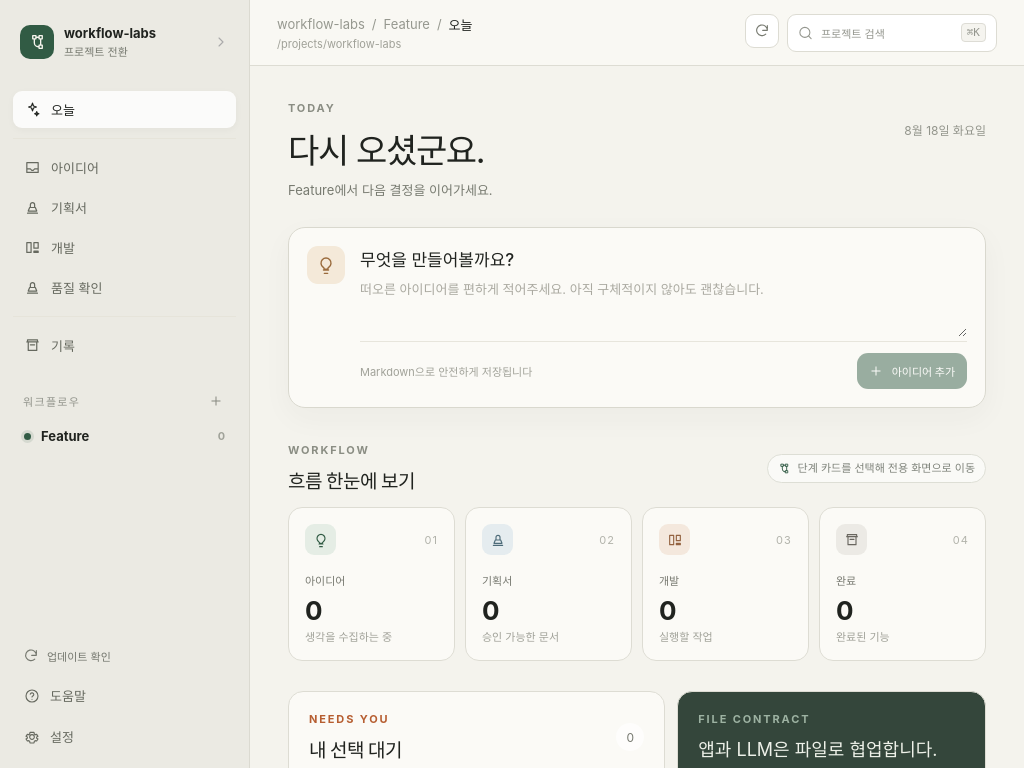
Scenario: WorkspaceShell › opens a purpose-built screen for each primary menu
Click the button "아이디어". click: x=124, y=168
box: 13,149 -> 236,186
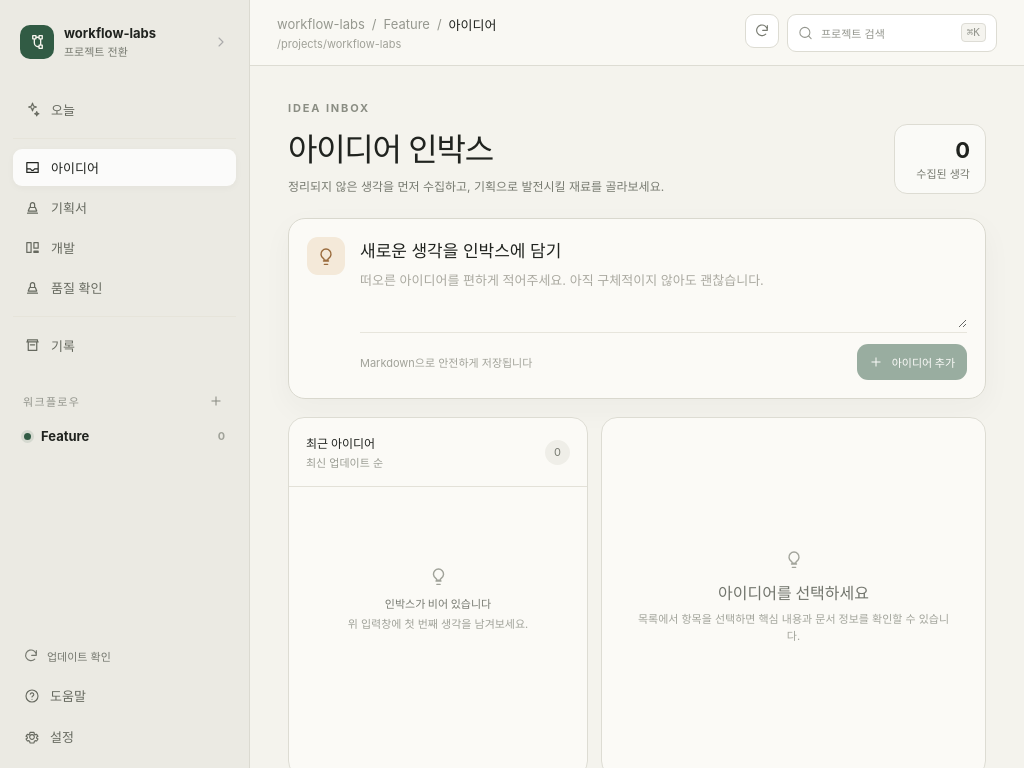
Now the heading "아이디어 인박스" is shown, box 288,130 -> 493,169
Click the button "기획서". click: x=124, y=208
box: 13,189 -> 236,226
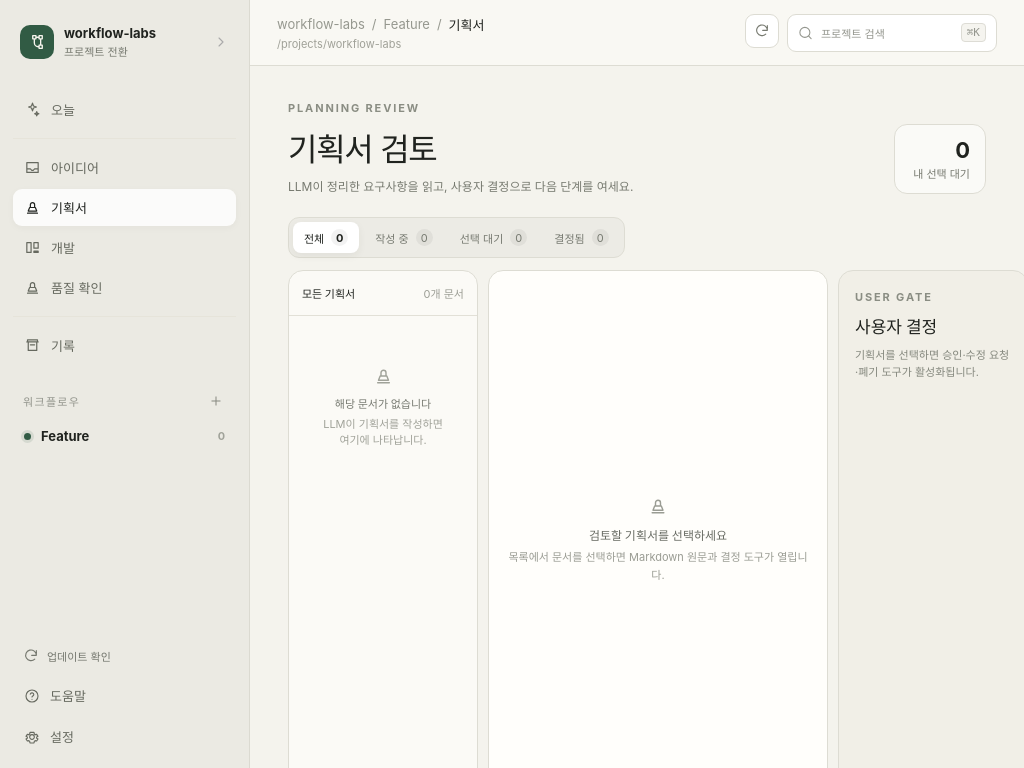
Now the heading "기획서 검토" is shown, box 288,130 -> 436,169
Click the button "개발". click: x=124, y=248
box: 13,229 -> 236,266
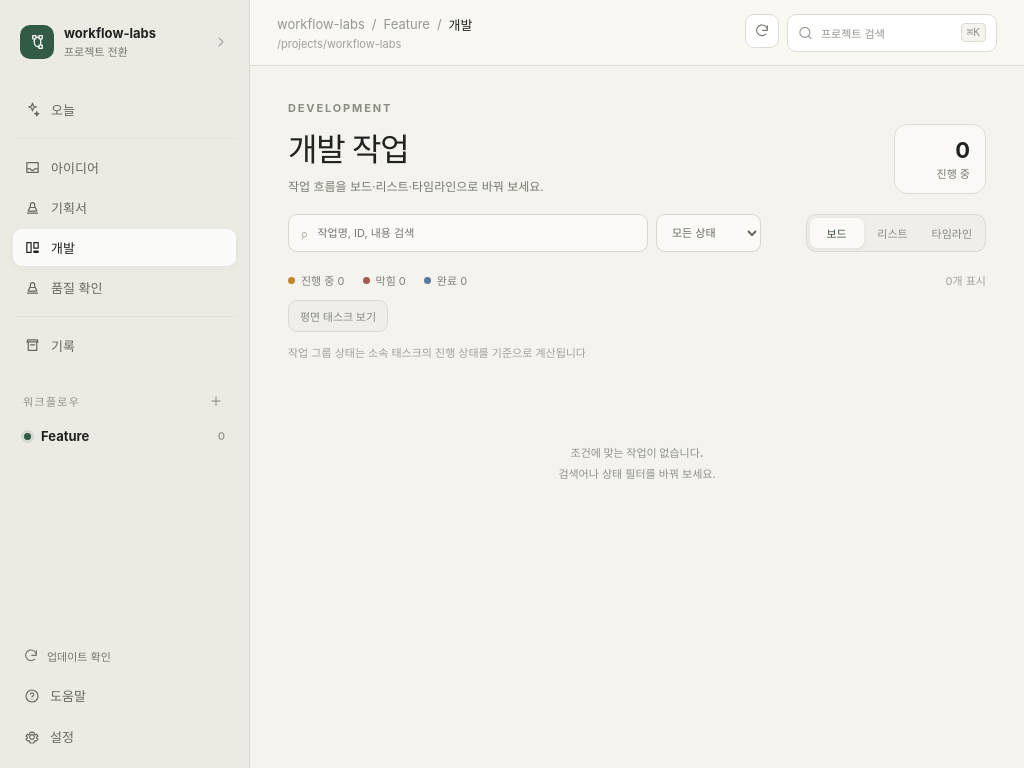
Now the heading "개발 작업" is shown, box 288,130 -> 408,169
